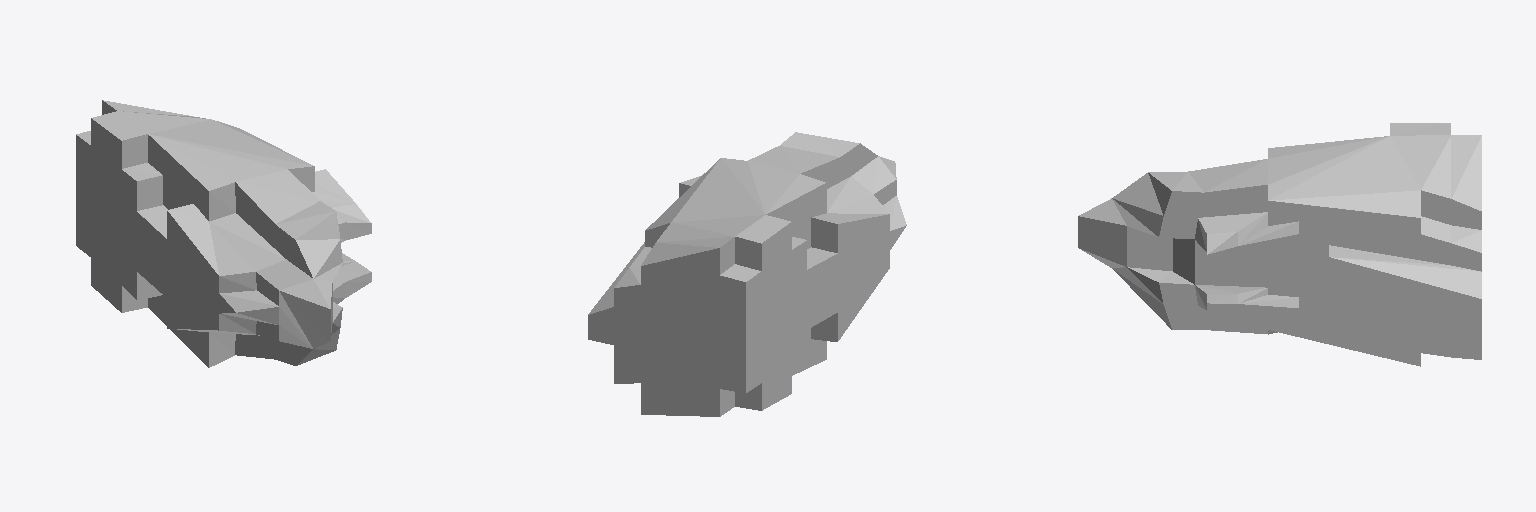
File: HeavyTripleShootBot_LOD0-1.obj
3 views of the same model, side by side, from view 1: azimuth 30°, elevation 25°; view 2: azimuth 150°, elevation 25°; view 3: azimuth 270°, elevation 25° (orthographic).
Visible parts, largest first — view 1: HeavyTripleShootBot_LOD0-1; view 2: HeavyTripleShootBot_LOD0-1; view 3: HeavyTripleShootBot_LOD0-1.
Part boxes in pixels (bbox=[...]): HeavyTripleShootBot_LOD0-1: bbox=[76, 100, 371, 367]; HeavyTripleShootBot_LOD0-1: bbox=[588, 132, 906, 416]; HeavyTripleShootBot_LOD0-1: bbox=[1078, 123, 1481, 366].
Size of the model in its own units: 0.6 by 0.6884 by 1.32.